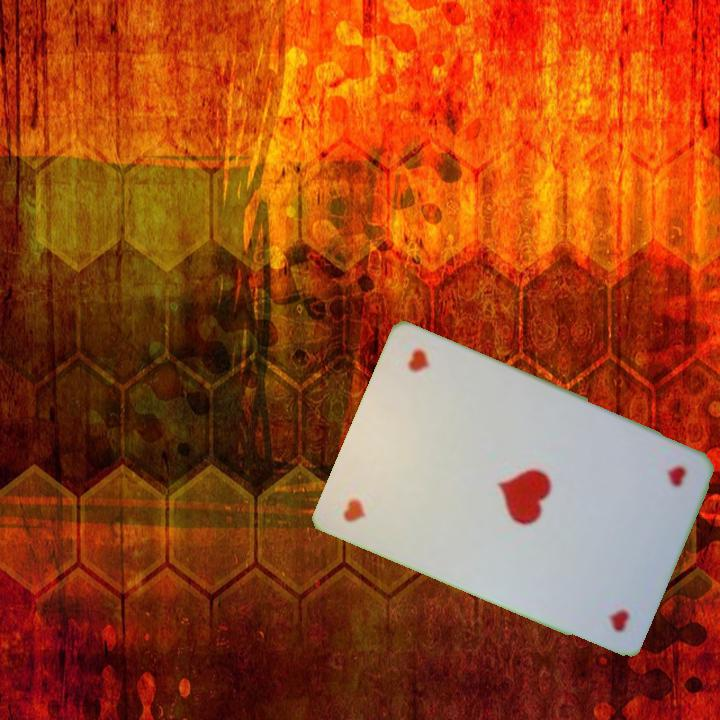h_a.png: (584, 431, 700, 555), (330, 426, 446, 550)
